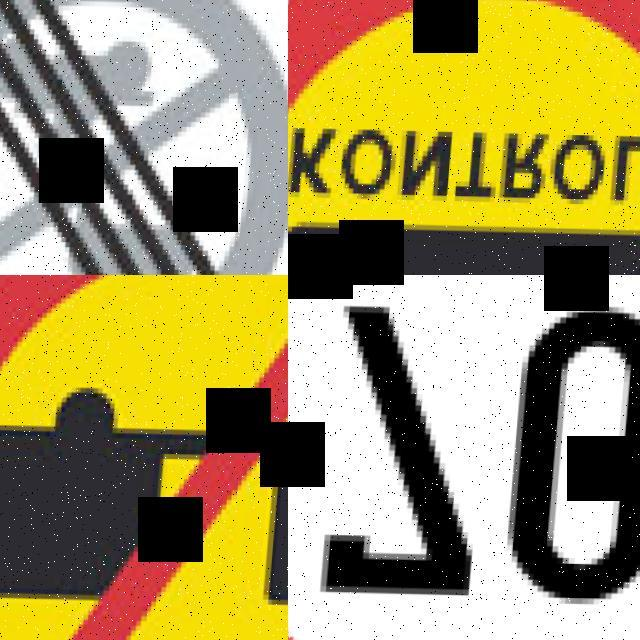111: (0, 0, 288, 275)
116: (288, 0, 640, 275)
46: (0, 275, 288, 640)
speed limit-70: (288, 275, 640, 640)
